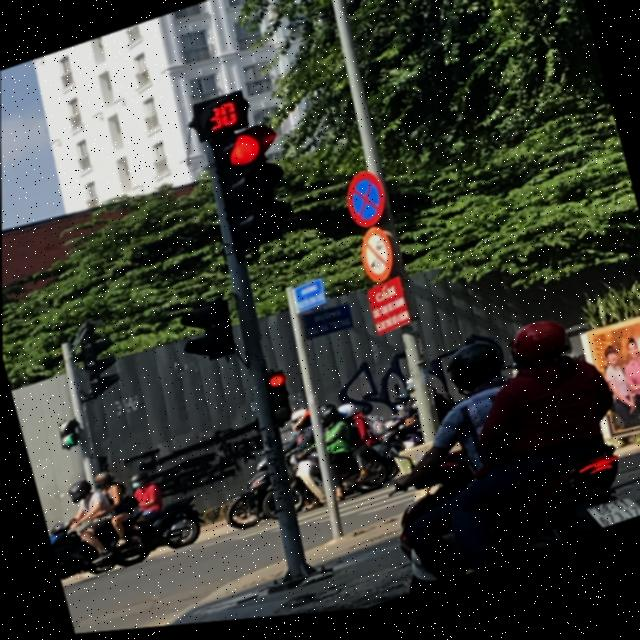Red: (206, 122, 300, 261), (261, 368, 298, 432)
